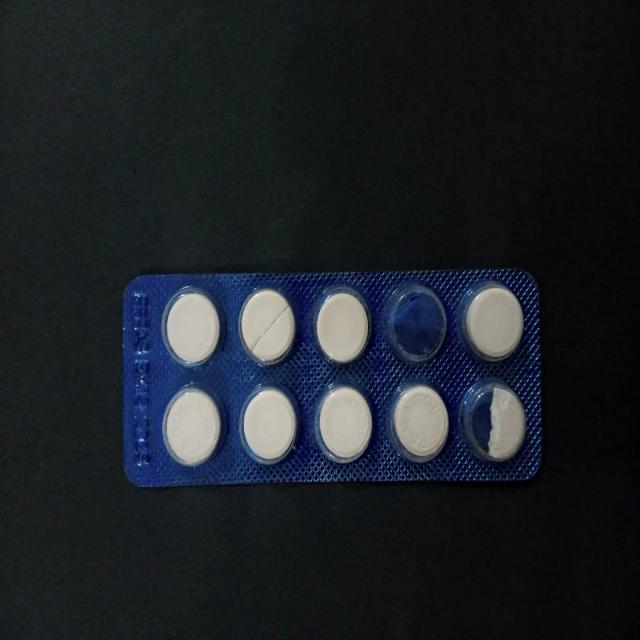defect: (456, 374, 531, 468), (380, 281, 453, 368), (236, 284, 301, 368)
